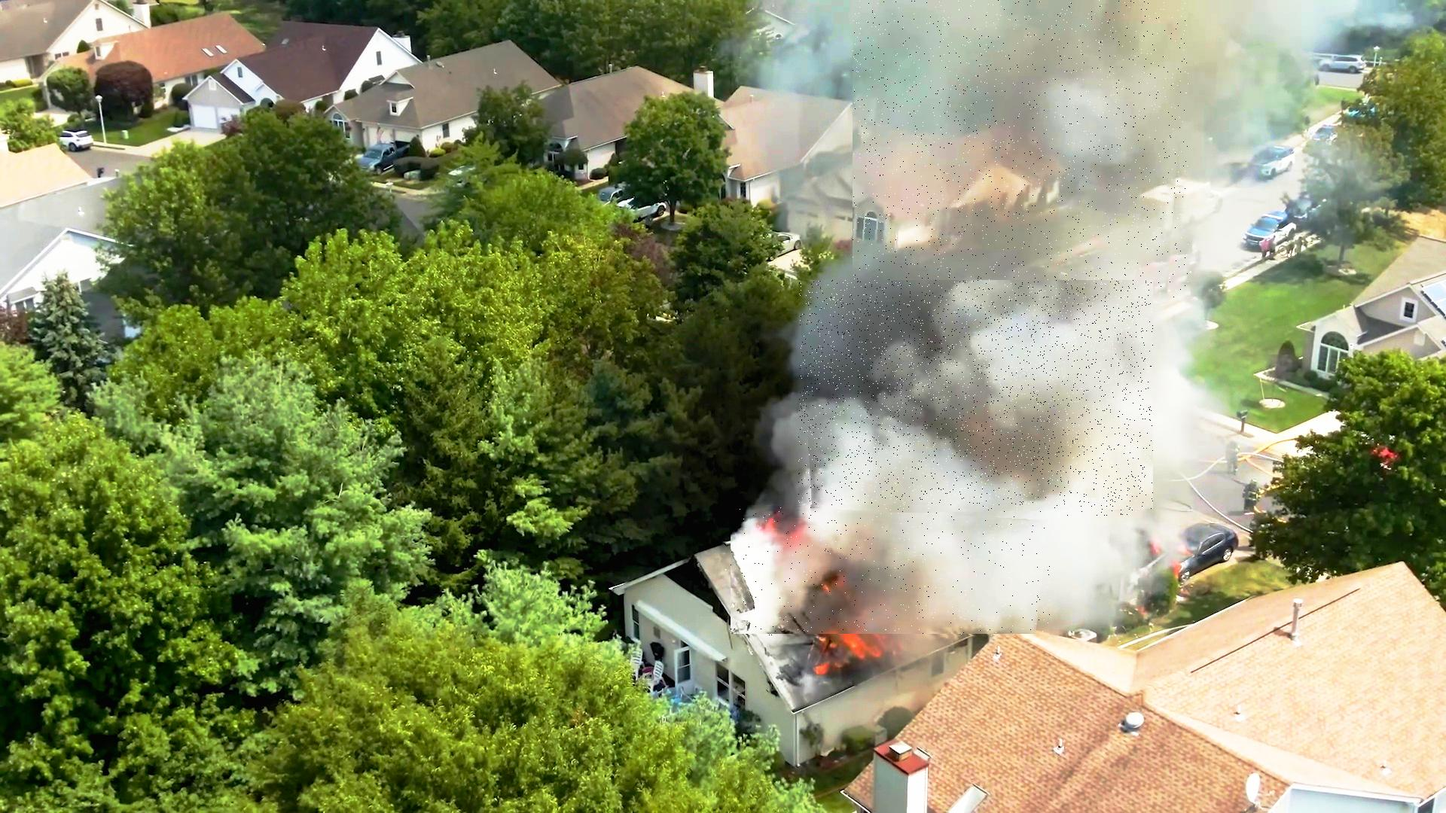smoke: (853, 0, 1188, 303), (798, 281, 1153, 516), (731, 506, 1050, 636)
